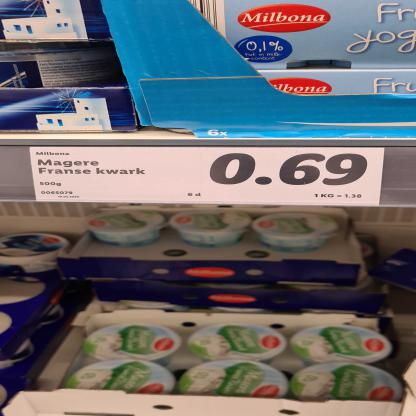prtg: (31, 147, 387, 207)
